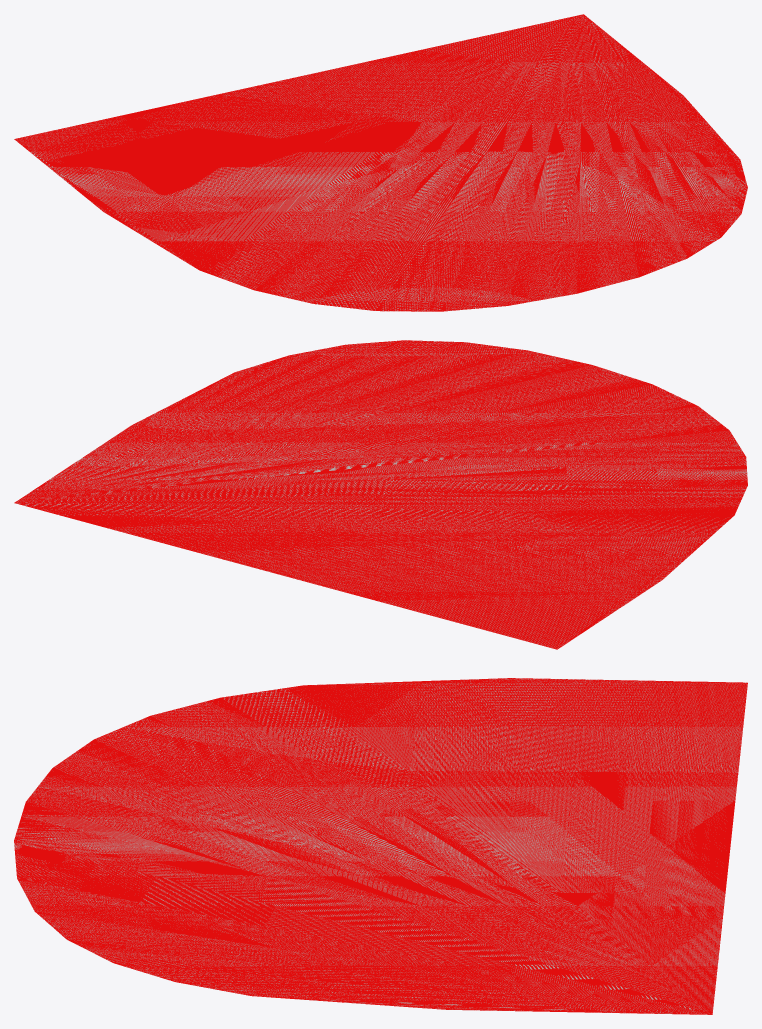
Rendered from original-83.obj.
The picture shows the model from 3 angles, top to bottom: view 1: azimuth 30°, elevation 25°; view 2: azimuth 150°, elevation 25°; view 3: azimuth 270°, elevation 25°; orthographic projection. The views are drawn at different scales.
Parts seen in each view (by area): view 1: #ID433; view 2: #ID433; view 3: #ID433.
Part boxes in pixels (x1,y1,x2,y2): #ID433: (14, 14, 747, 311); #ID433: (14, 340, 747, 649); #ID433: (14, 678, 747, 1014).
Bounding box in the file's own units: 0.0272 × 0 × 0.0251.
